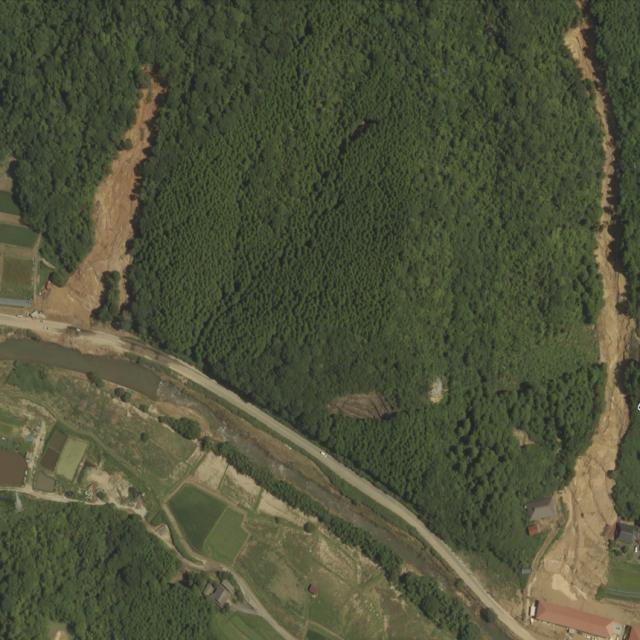landslide: (523, 19, 640, 626), (48, 97, 155, 326)
